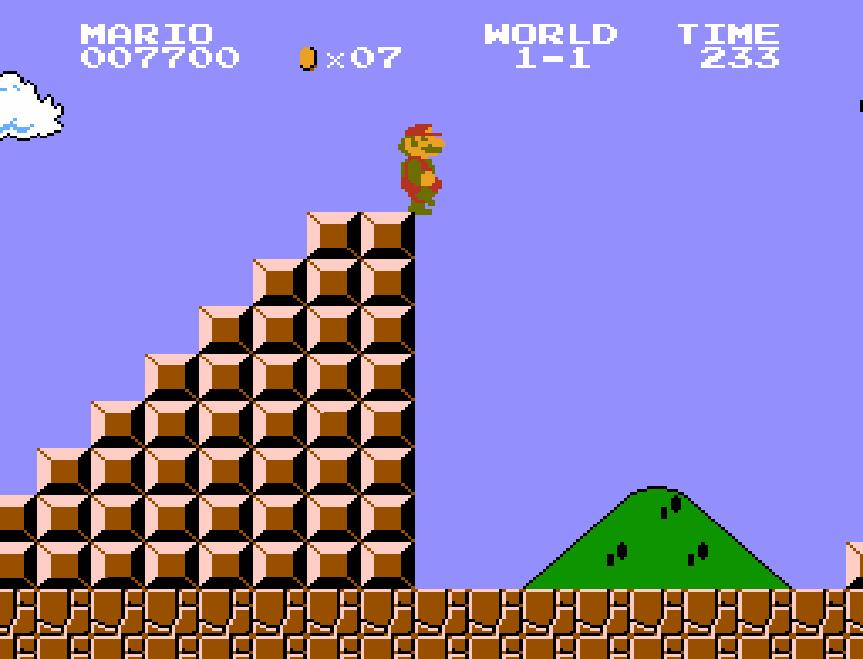big_mario: (392, 118, 450, 216)
